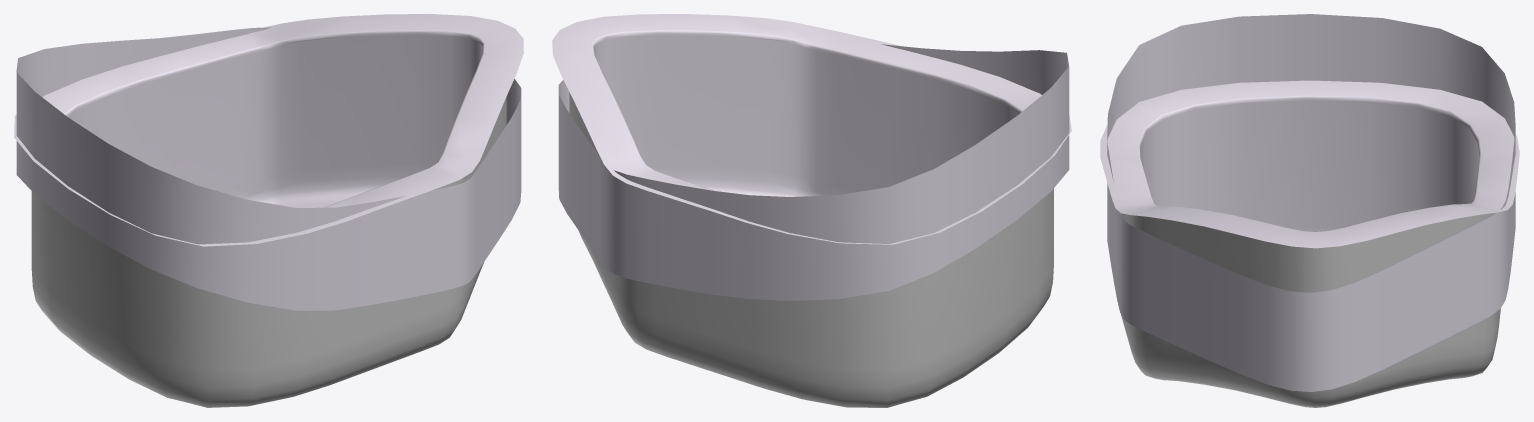
File: dpad_left.obj
3 renders of one model, left to right at view 1: azimuth 30°, elevation 25°; view 2: azimuth 150°, elevation 25°; view 3: azimuth 270°, elevation 25°, orthographic. The views are drawn at different scales.
Visible parts, largest first — view 1: dpad_left; view 2: dpad_left; view 3: dpad_left.
Part boxes in pixels (x1,y1,x2,y2): dpad_left: [14, 14, 523, 407]; dpad_left: [552, 14, 1071, 407]; dpad_left: [1100, 14, 1519, 407].
Bounding box in the file's own units: 0.1529 × 0.0809 × 0.1271.
